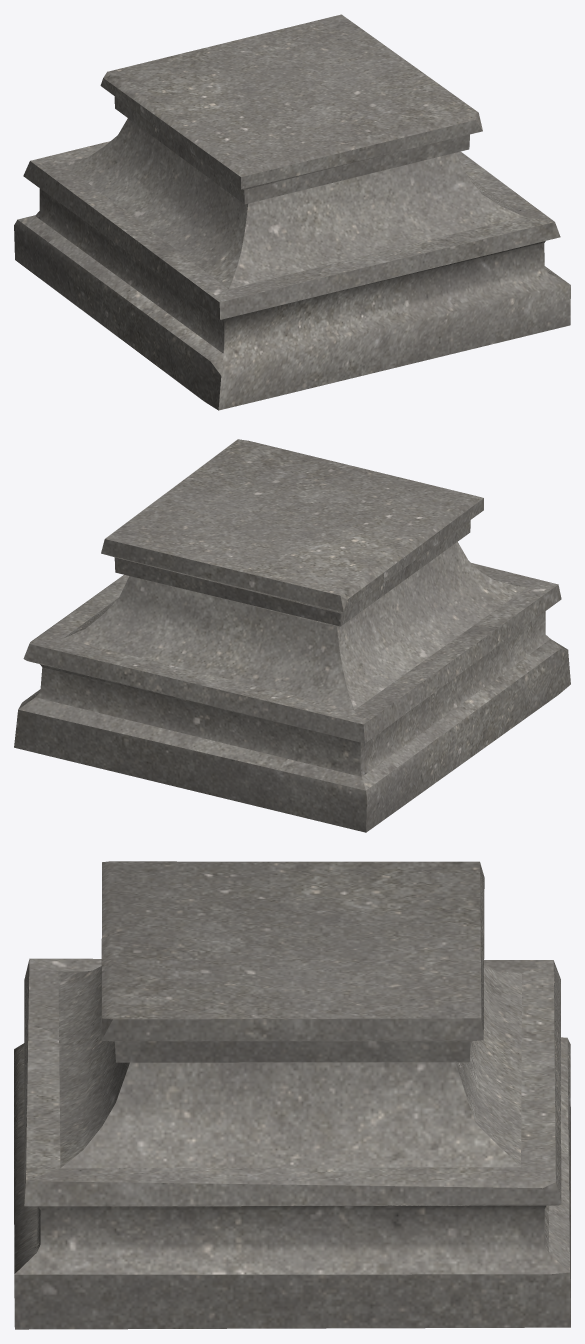
Rendered from SM_Statue_Base_2.fbx.
3 renders of one model, top to bottom at view 1: azimuth 30°, elevation 25°; view 2: azimuth 150°, elevation 25°; view 3: azimuth 270°, elevation 25°, orthographic. The views are drawn at different scales.
Visible parts, largest first — view 1: SM_Statue_Base_2_LOD0; view 2: SM_Statue_Base_2_LOD0; view 3: SM_Statue_Base_2_LOD0.
Part boxes in pixels (left/top/right/bottom): SM_Statue_Base_2_LOD0: left=14, top=14, right=570, bottom=410; SM_Statue_Base_2_LOD0: left=14, top=439, right=570, bottom=832; SM_Statue_Base_2_LOD0: left=14, top=861, right=570, bottom=1329.
Size of the model in its own units: 140 by 139 by 75.84.
